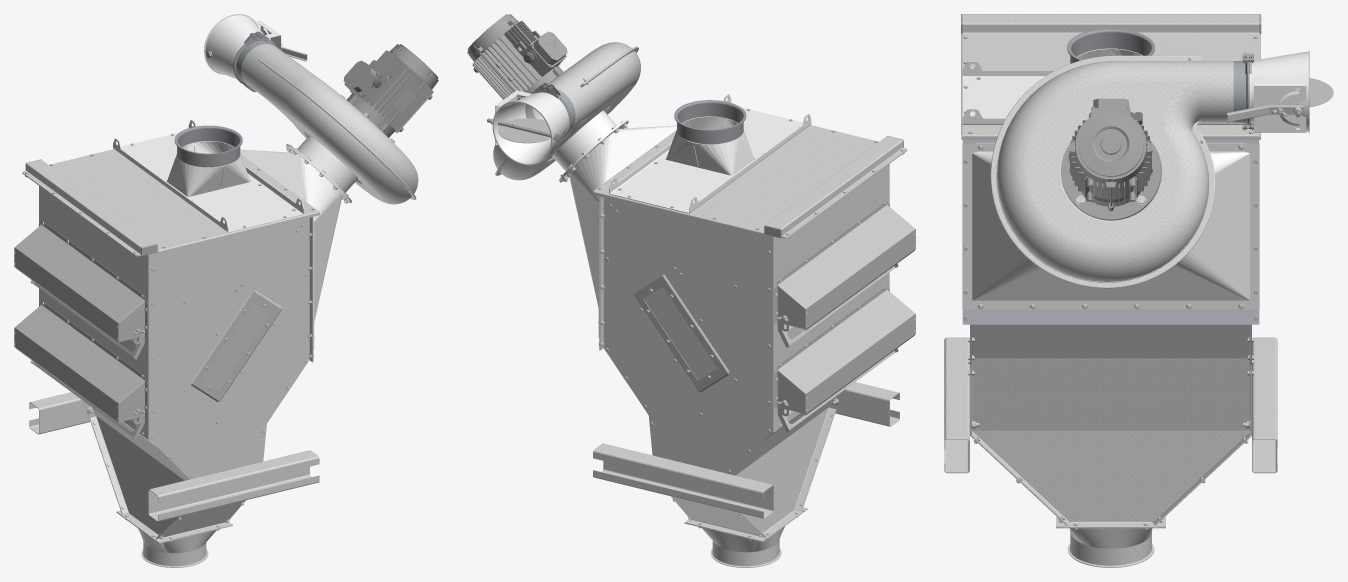
File: NDV40-60_.glb
3 renders of one model, left to right at view 1: azimuth 30°, elevation 25°; view 2: azimuth 150°, elevation 25°; view 3: azimuth 270°, elevation 25°, orthographic. The views are drawn at different scales.
Visible parts, largest first — view 1: Volumenkörper3, Volumenkörper3.001, Volumenkörper2.027, Volumenkörper2.034, Volumenkörper2.035, Volumenkörper2.001, Volumenkörper2.023, Volumenkörper1.002, Volumenkörper2.012, Volumenkörper2.003, Solid1.202, Volumenkörper2.016 (+15 smaller); view 2: Volumenkörper2, Volumenkörper3.001, Volumenkörper2.034, Volumenkörper2.035, Volumenkörper2.001, Volumenkörper2.023, Volumenkörper1.001, Volumenkörper2.012, Volumenkörper2.027, Volumenkörper4, Solid1.202, Volumenkörper3.002 (+14 smaller); view 3: Volumenkörper2.013, Volumenkörper2.027, Volumenkörper3.001, Volumenkörper4, Volumenkörper2.003, Volumenkörper2.002, Volumenkörper2.030, Solid1.203, Volumenkörper2.023, Volumenkörper1.002, Volumenkörper1.001, Volumenkörper1 (+8 smaller).
Boxes of the visible parts, x1=… form: Volumenkörper3: x1=150, y1=217, x2=312, y2=543; Volumenkörper3.001: x1=22, y1=149, x2=319, y2=255; Volumenkörper2.027: x1=241, y1=44, x2=418, y2=204; Volumenkörper2.034: x1=14, y1=221, x2=147, y2=343; Volumenkörper2.035: x1=14, y1=301, x2=147, y2=423; Volumenkörper2.001: x1=22, y1=173, x2=154, y2=439; Volumenkörper2.023: x1=113, y1=120, x2=304, y2=232; Volumenkörper1.002: x1=148, y1=450, x2=319, y2=521; Volumenkörper2.012: x1=80, y1=398, x2=189, y2=540; Volumenkörper2.003: x1=271, y1=156, x2=342, y2=342; Solid1.202: x1=346, y1=50, x2=433, y2=132; Volumenkörper2.016: x1=190, y1=289, x2=281, y2=401; Volumenkörper2: x1=600, y1=197, x2=771, y2=541; Volumenkörper3.001: x1=592, y1=125, x2=907, y2=237; Volumenkörper2.034: x1=774, y1=201, x2=915, y2=330; Volumenkörper2.035: x1=774, y1=285, x2=915, y2=415; Volumenkörper2.001: x1=767, y1=150, x2=907, y2=432; Volumenkörper2.023: x1=609, y1=94, x2=811, y2=213; Volumenkörper1.001: x1=593, y1=443, x2=773, y2=518; Volumenkörper2.012: x1=730, y1=389, x2=845, y2=538; Volumenkörper2.027: x1=493, y1=42, x2=640, y2=180; Volumenkörper4: x1=569, y1=133, x2=643, y2=329; Solid1.202: x1=472, y1=20, x2=563, y2=100; Volumenkörper3.002: x1=492, y1=92, x2=570, y2=165; Volumenkörper2.013: x1=971, y1=324, x2=1251, y2=527; Volumenkörper2.027: x1=997, y1=61, x2=1233, y2=281; Volumenkörper3.001: x1=961, y1=14, x2=1260, y2=139; Volumenkörper4: x1=1111, y1=143, x2=1259, y2=309; Volumenkörper2.003: x1=962, y1=143, x2=1110, y2=309; Volumenkörper2.002: x1=962, y1=140, x2=1259, y2=324; Volumenkörper2.030: x1=990, y1=55, x2=1215, y2=288; Solid1.203: x1=1069, y1=106, x2=1152, y2=188; Volumenkörper2.023: x1=962, y1=61, x2=1242, y2=124; Volumenkörper1.002: x1=944, y1=337, x2=969, y2=473; Volumenkörper1.001: x1=1252, y1=337, x2=1277, y2=473; Volumenkörper1: x1=1056, y1=521, x2=1165, y2=567.
Size of the model in its own units: 1.37 by 1.6 by 0.9714.
46 materials, 19 textured.
